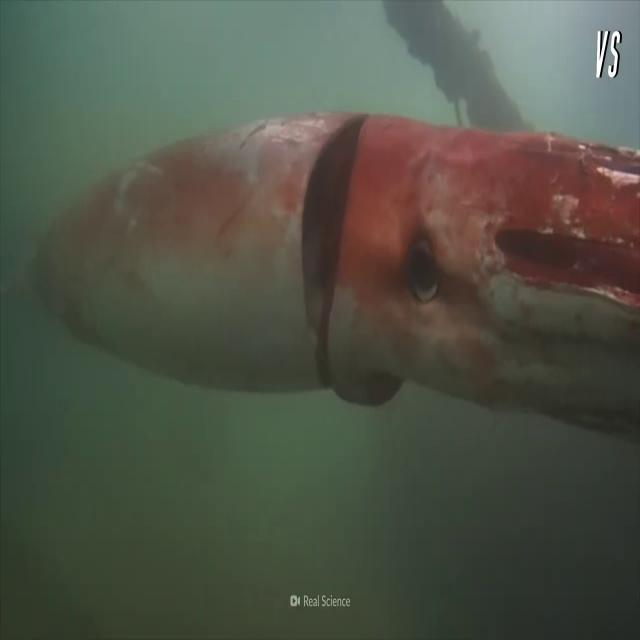squid: (6, 111, 640, 439)
